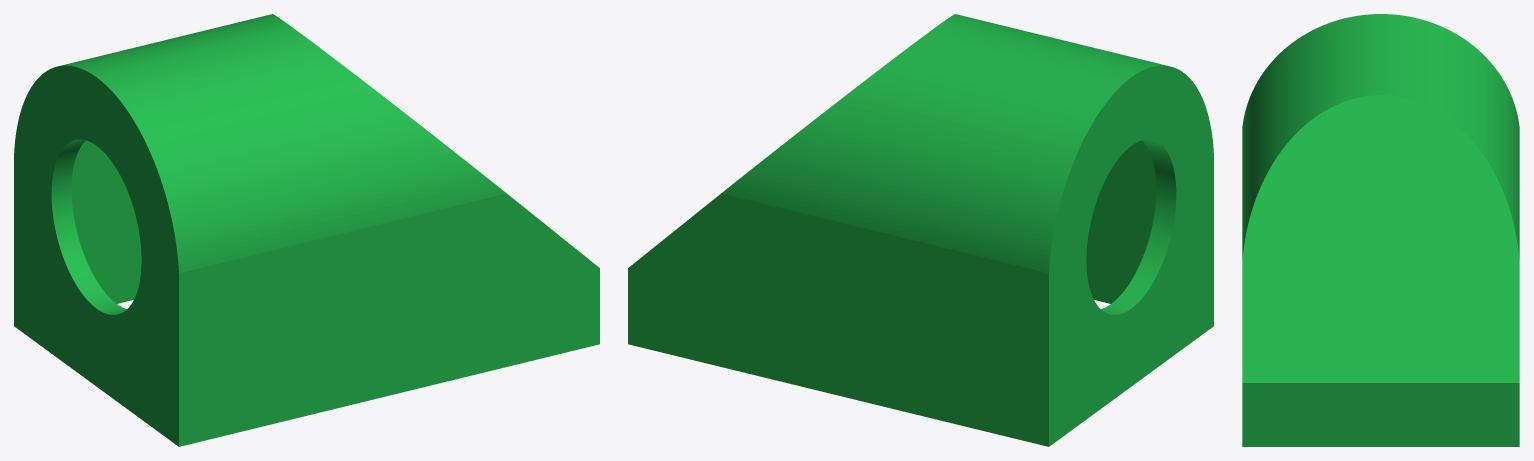
The model's file is pozetka.glb.
3 views of the same model, side by side, from view 1: azimuth 30°, elevation 25°; view 2: azimuth 150°, elevation 25°; view 3: azimuth 270°, elevation 25° (orthographic). The views are drawn at different scales.
Bounding box in the file's own units: 0.084 × 0.059 × 0.057.
